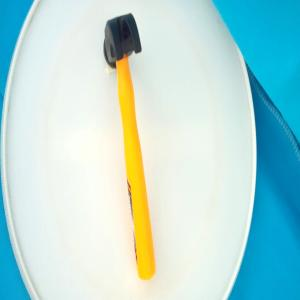martelo: (102, 11, 156, 281)
